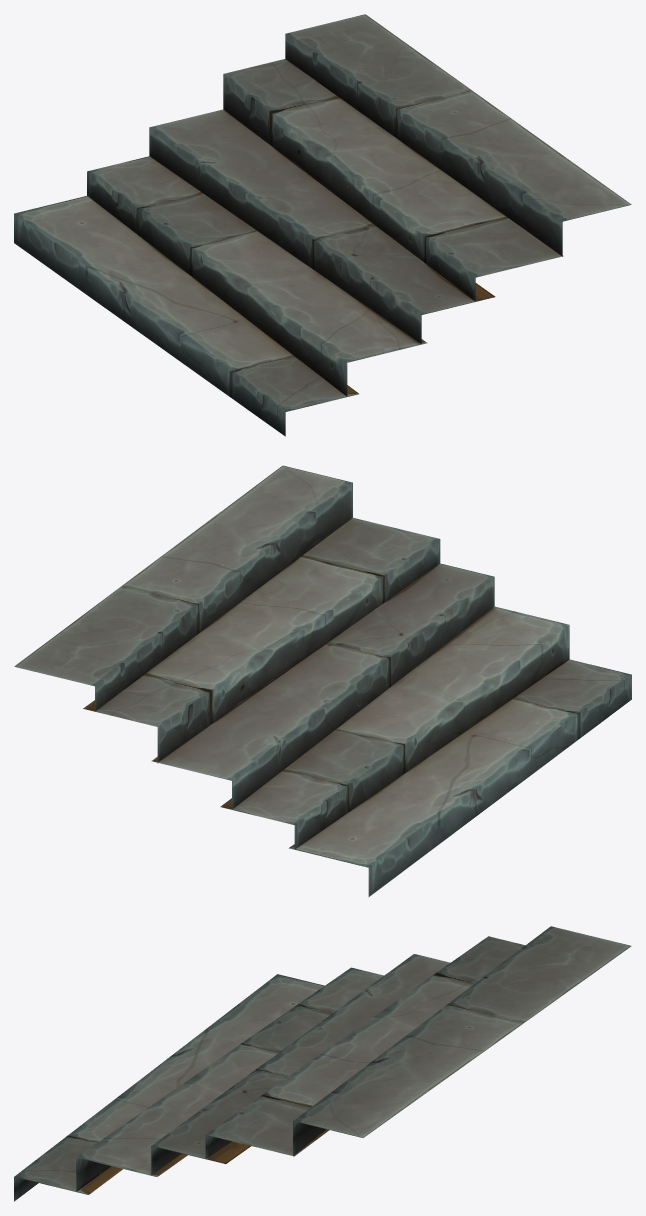
Rendered from SM_Stairs_02.glb.
3 renders of one model, top to bottom at view 1: azimuth 30°, elevation 25°; view 2: azimuth 150°, elevation 25°; view 3: azimuth 330°, elevation 25°, orthographic.
Visible parts, largest first — view 1: SM_Stairs_02; view 2: SM_Stairs_02; view 3: SM_Stairs_02.
Part boxes in pixels (x1,y1,x2,y2): SM_Stairs_02: (14,14,631,436); SM_Stairs_02: (14,465,631,896); SM_Stairs_02: (14,926,631,1201).
Size of the model in its own units: 3.84 by 1.54 by 5.04.
Materials: 1 (1 with a texture image).
